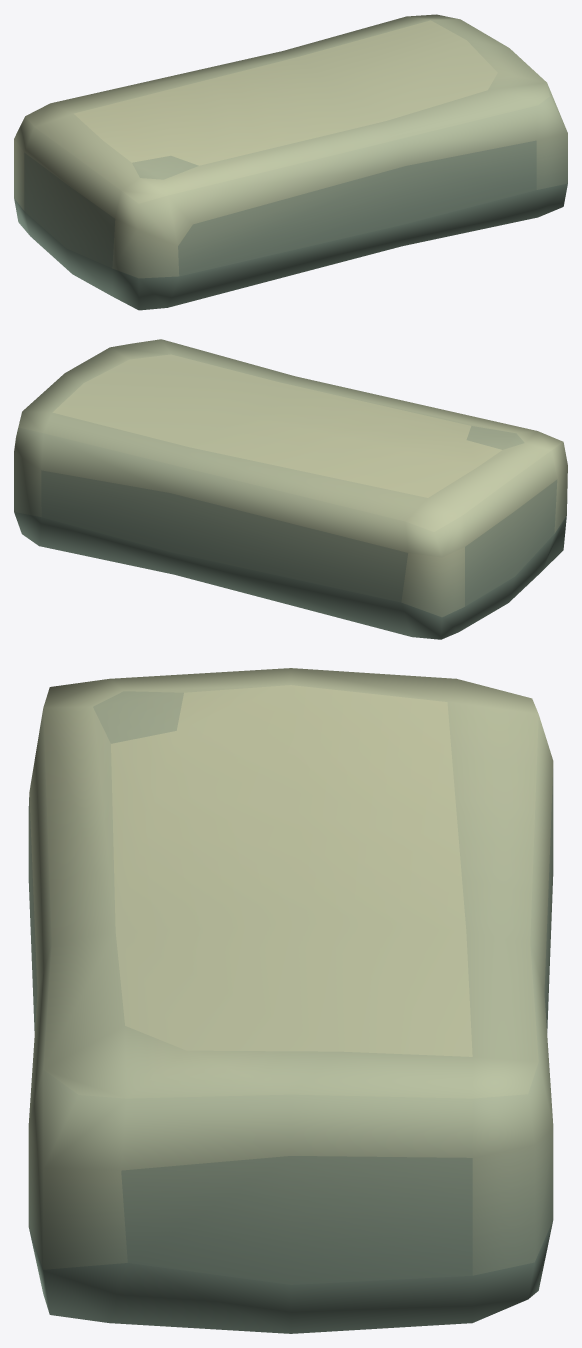
File: block_stone1_2_debris_LOD_group.fbx
3 renders of one model, top to bottom at view 1: azimuth 30°, elevation 25°; view 2: azimuth 150°, elevation 25°; view 3: azimuth 270°, elevation 25°, orthographic. The views are drawn at different scales.
Parts seen in each view (by area): view 1: block_stone1_2_debris_LOD0; view 2: block_stone1_2_debris_LOD0; view 3: block_stone1_2_debris_LOD0.
Boxes of the visible parts, x1,y1,x2,y2 form: block_stone1_2_debris_LOD0: (14, 14, 567, 310); block_stone1_2_debris_LOD0: (14, 339, 567, 639); block_stone1_2_debris_LOD0: (28, 668, 553, 1333).
Size of what is drawn, in the model's own units: 109 by 30.87 by 55.35.
Materials: 1 (1 with a texture image).
